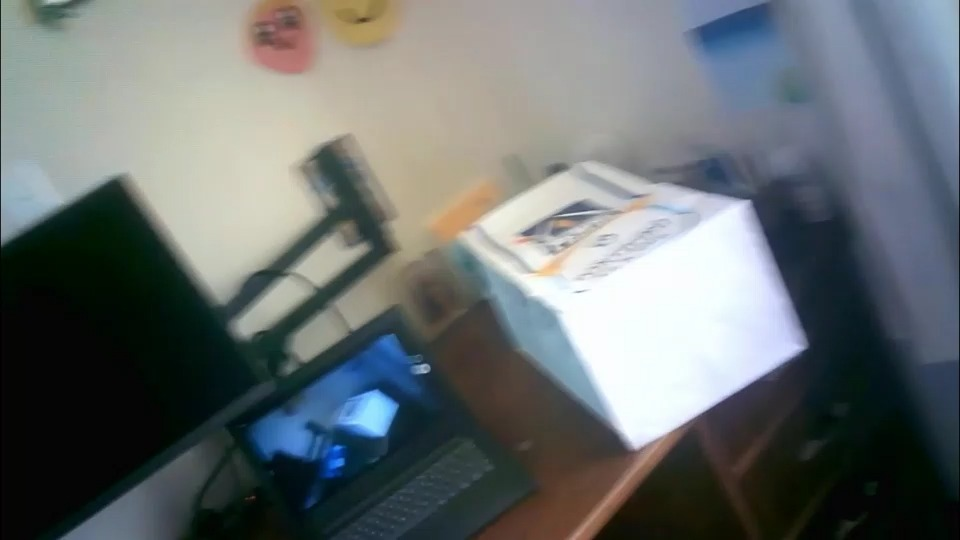wheat_flour_blue_label: (463, 159, 805, 441)
